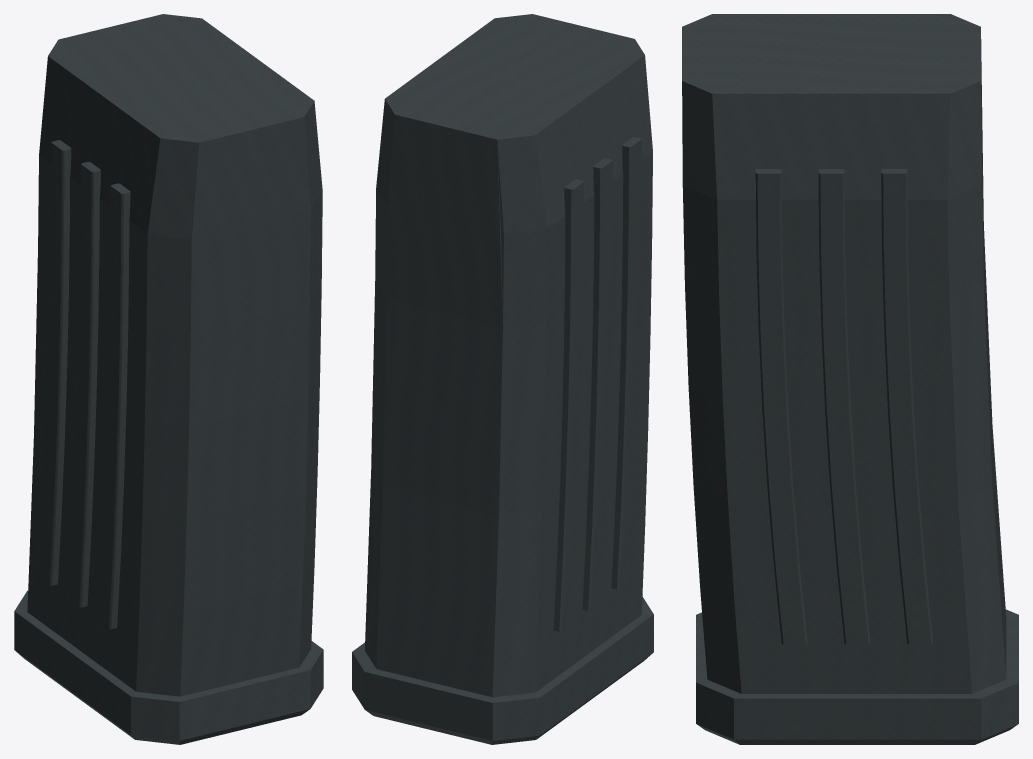
3 renders of one model, left to right at view 1: azimuth 30°, elevation 25°; view 2: azimuth 150°, elevation 25°; view 3: azimuth 270°, elevation 25°, orthographic. The views are drawn at different scales.
Visible parts, largest first — view 1: ar556_20_individual_shell, ar556_20_individual_shell.001; view 2: ar556_20_individual_shell, ar556_20_individual_shell.001; view 3: ar556_20_individual_shell, ar556_20_individual_shell.001.
Part boxes in pixels (x1,y1,x2,y2): ar556_20_individual_shell: (14,14,323,744); ar556_20_individual_shell.001: (27,250,146,685); ar556_20_individual_shell: (352,14,653,744); ar556_20_individual_shell.001: (365,114,649,697); ar556_20_individual_shell: (682,14,1018,744); ar556_20_individual_shell.001: (719,39,1006,693).
Size of the model in its own units: 0.0726 by 0.219 by 0.1037.
1 material, 1 textured.
